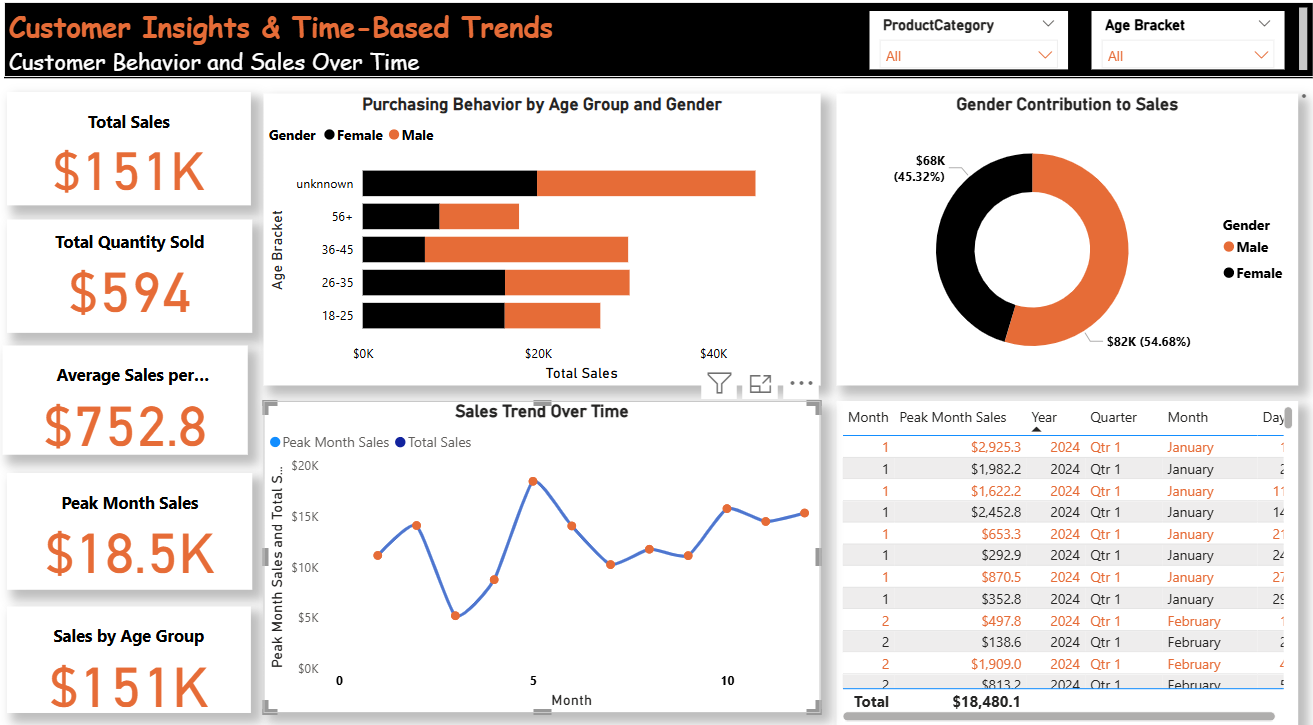

What the dashboard file says about the page in this screenshot:
{"tool":"powerbi","page":{"name":"Retail Sales Analysis-1","canvas":[1280,720],"ordinal":0},"visuals":[{"type":"cardVisual","fields":{"Data":["Sales Data.Total Sales"]},"box":[11.3,105.2,236.4,110.1],"z":0},{"type":"cardVisual","fields":{"Data":["Sales Data.Total Quantity Sold"]},"box":[11.3,228.3,238,110.1],"z":1000},{"type":"cardVisual","fields":{"Data":["Sales Data.Average Sales per Transaction"]},"box":[7.6,351.5,238.1,105.8],"z":2000},{"type":"textbox","box":[9.4,17,1269.9,73.7],"z":3000},{"type":"barChart","title":" Purchasing Behavior by Age Group and Gender","fields":{"Category":["Sales Data.Age Bracket"],"Y":["Sales Data.Total Sales"],"Series":["Sales Data.Gender"]},"box":[260.8,105.8,540.5,283.5],"z":4000},{"type":"donutChart","title":"Gender Contribution to Sales","fields":{"Category":["Sales Data.Gender"],"Y":["Sales Data.Total Sales"]},"box":[816.4,105.8,447.9,283.5],"z":5000},{"type":"lineChart","title":"Sales Trend Over Time","fields":{"Y":["Sales Data.Peak Month Sales","Sales Data.Total Sales"],"Category":["Sales Data.Month"]},"box":[260.8,404.4,540.5,302.4],"z":6000},{"type":"tableEx","fields":{"Values":["Sales Data.Month","Sales Data.Peak Month Sales","Sales Data.TransactionDate.Variation.Date Hierarchy.Year","Sales Data.TransactionDate.Variation.Date Hierarchy.Quarter","Sales Data.TransactionDate.Variation.Date Hierarchy.Month","Sales Data.TransactionDate.Variation.Date Hierarchy.Day"]},"box":[816.4,404.4,447.9,315.6],"z":7000},{"type":"cardVisual","fields":{"Data":["Sales Data.Peak Month Sales"]},"box":[11.3,474.4,238,113.3],"z":8000},{"type":"cardVisual","fields":{"Data":["Sales Data.Sales by Age Group"]},"box":[11.3,604,236.4,103.6],"z":9000},{"type":"slicer","fields":{"Values":["Sales Data.ProductCategory"]},"box":[848.5,26.5,192.8,56.7],"z":10000},{"type":"slicer","fields":{"Values":["Sales Data.Age Bracket"]},"box":[1063.9,26.5,187.1,56.7],"z":11000}]}

Visuals, with their boxes in screenshot pixels (x1, y1, x2, y2), scaled from the page's 1280x720 canvas onto the 1313x725 screenshot:
cardVisual - Sales Data.Total Sales: bbox=(12, 106, 254, 217)
cardVisual - Sales Data.Total Quantity Sold: bbox=(12, 230, 256, 341)
cardVisual - Sales Data.Average Sales per Transaction: bbox=(8, 354, 252, 460)
textbox: bbox=(10, 17, 1312, 91)
" Purchasing Behavior by Age Group and Gender" barChart: bbox=(268, 107, 822, 392)
"Gender Contribution to Sales" donutChart: bbox=(837, 107, 1297, 392)
"Sales Trend Over Time" lineChart: bbox=(268, 407, 822, 712)
tableEx - Sales Data.Month x Sales Data.Peak Month Sales: bbox=(837, 407, 1297, 724)
cardVisual - Sales Data.Peak Month Sales: bbox=(12, 478, 256, 592)
cardVisual - Sales Data.Sales by Age Group: bbox=(12, 608, 254, 713)
slicer - Sales Data.ProductCategory: bbox=(870, 27, 1068, 84)
slicer - Sales Data.Age Bracket: bbox=(1091, 27, 1283, 84)
